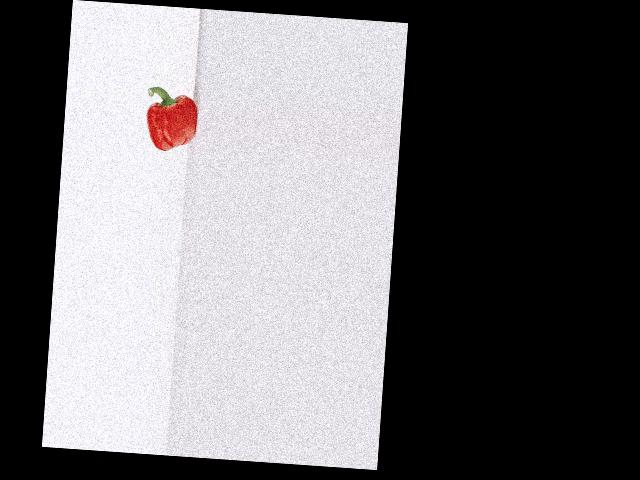bell_pepper: (141, 80, 201, 156)
